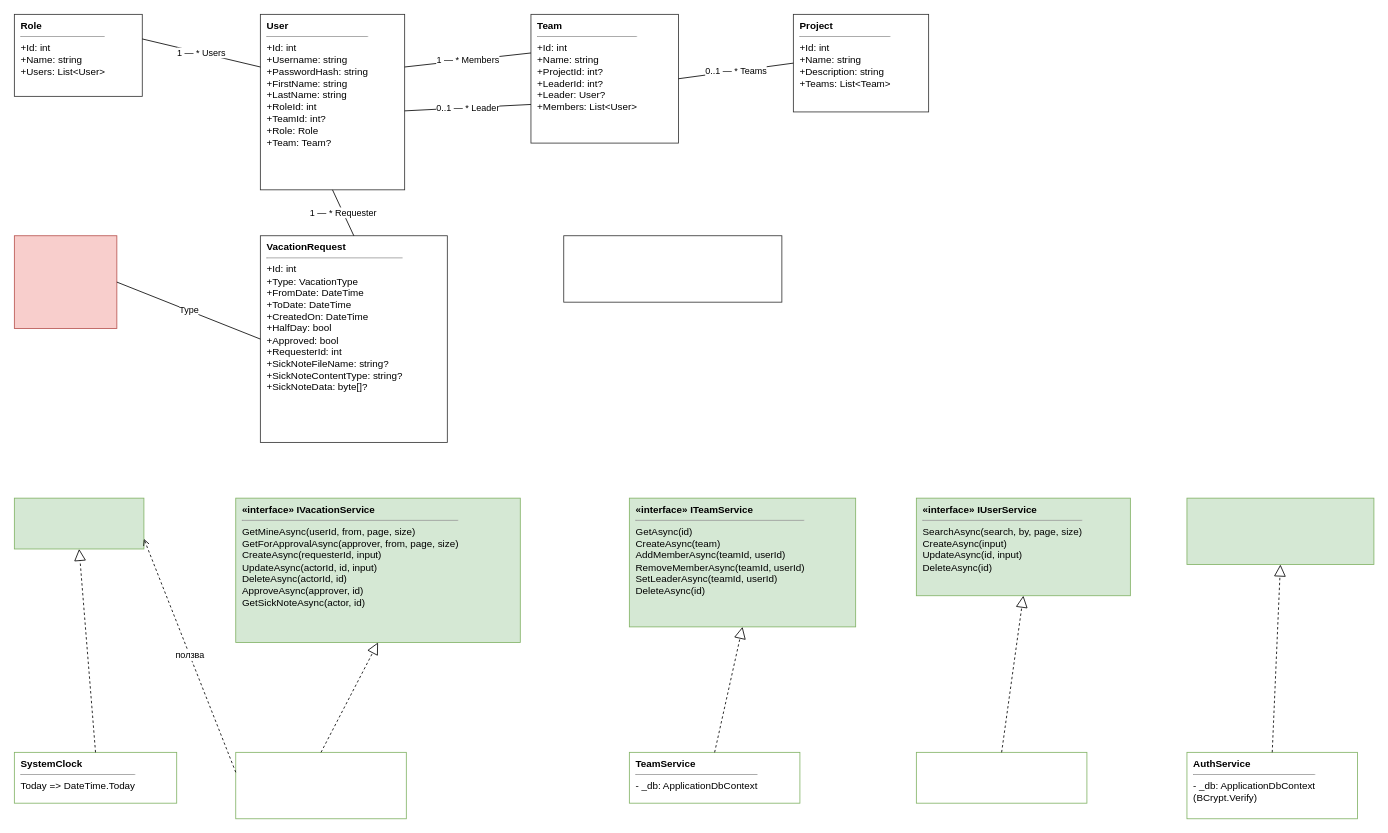
Image size: 1388x833. Some labels were removed from this diagram. The shapes that lost their labels are listed below. From the top down, each one's box as (x1, y1, x2, y2) in pixels, then its label:
(14, 235, 117, 328): «enumeration» VacationType Paid = 0 Unpaid = 1 Sick = 2
(563, 235, 782, 302): BusinessRuleException «Exception» +Message: string (за потребителя)
(14, 497, 144, 549): «interface» IClock Today: DateTime
(1186, 497, 1374, 565): «interface» IAuthService ValidateCredentialsAsync( username, password): User?
(235, 752, 406, 819): VacationService - _db: ApplicationDbContext - _clock: IClock
(916, 752, 1087, 803): UserService - _db: ApplicationDbContext
